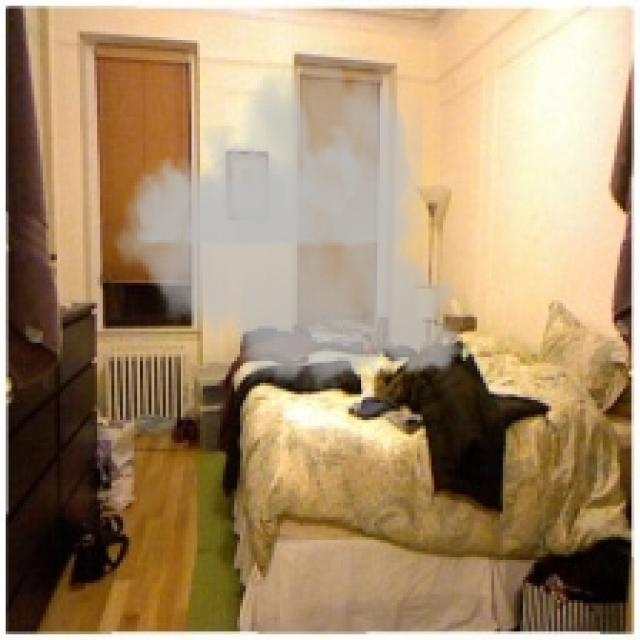smoke: (103, 46, 480, 397)
